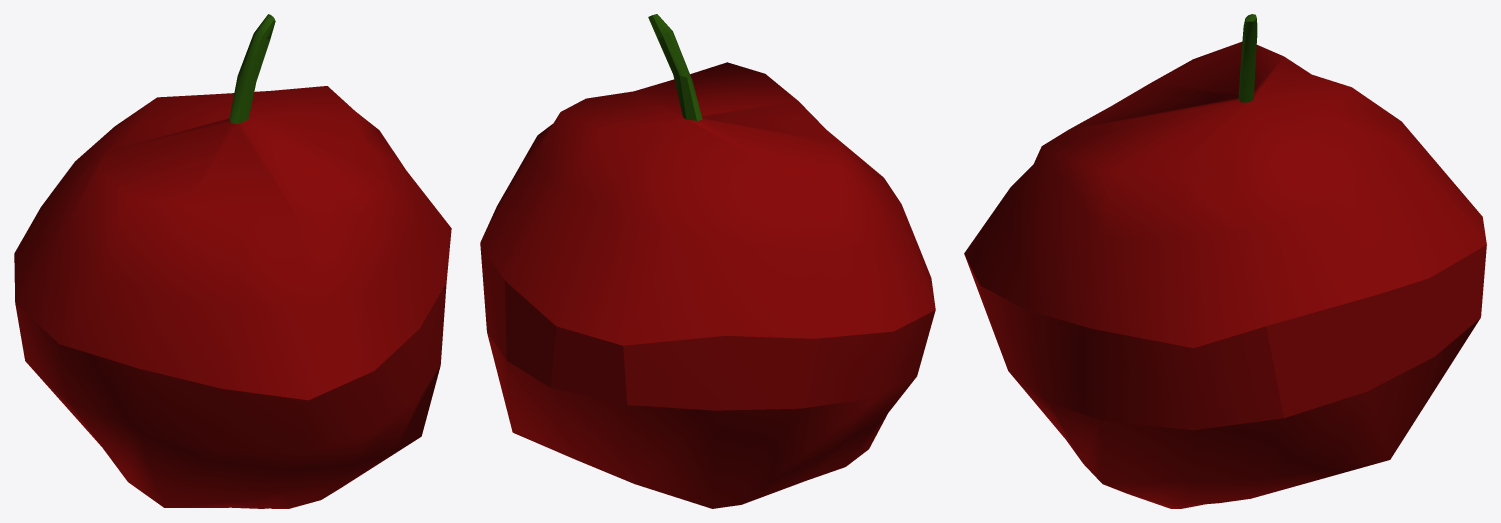
File: Tom.fbx
3 renders of one model, left to right at view 1: azimuth 30°, elevation 25°; view 2: azimuth 150°, elevation 25°; view 3: azimuth 270°, elevation 25°, orthographic. The views are drawn at different scales.
Parts seen in each view (by area): view 1: RetopoFlow.004; view 2: RetopoFlow.004; view 3: RetopoFlow.004.
Part boxes in pixels (bbox=[...]): RetopoFlow.004: bbox=[14, 14, 451, 508]; RetopoFlow.004: bbox=[480, 14, 935, 508]; RetopoFlow.004: bbox=[964, 14, 1486, 508].
Bounding box in the file's own units: 194 × 214 × 204.
